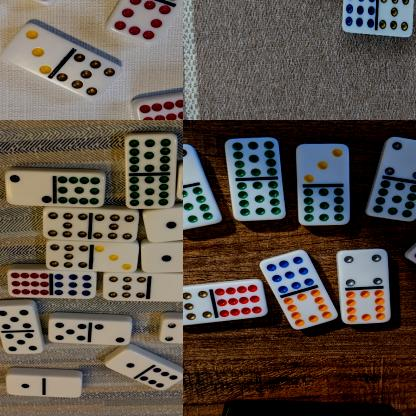pip-1: (141, 242, 183, 273), (144, 209, 183, 242), (107, 348, 152, 376), (7, 376, 44, 397)
pip-10: (284, 290, 338, 331), (341, 289, 393, 325)
pip-11: (224, 138, 283, 180), (231, 180, 287, 222), (298, 186, 350, 226), (124, 136, 178, 174), (367, 181, 416, 222), (183, 187, 223, 230), (55, 174, 105, 207), (127, 175, 175, 208)
pip-12: (212, 281, 268, 318), (8, 271, 52, 298), (137, 98, 183, 120)
pip-2: (7, 171, 55, 207), (90, 320, 132, 346), (183, 144, 204, 189)
pip-3: (2, 24, 67, 75), (296, 142, 350, 187), (93, 244, 140, 273)
pip-4: (338, 250, 389, 288), (384, 137, 416, 181), (161, 320, 183, 345)
pip-5: (49, 318, 91, 344), (0, 307, 39, 332), (0, 332, 44, 354)
pip-6: (140, 366, 183, 391)
pip-7: (57, 53, 121, 101), (43, 208, 90, 241), (92, 212, 140, 243), (377, 0, 414, 39), (46, 241, 92, 270), (103, 274, 148, 302), (183, 286, 213, 327)
pip-8: (108, 0, 172, 45)
pip-9: (261, 250, 315, 293), (52, 272, 97, 300), (342, 0, 377, 34)
